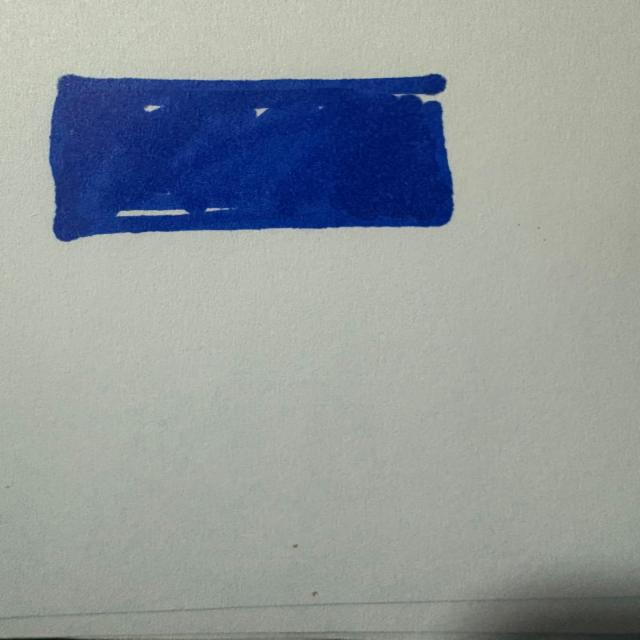Rectangle: (49, 74, 455, 242)
